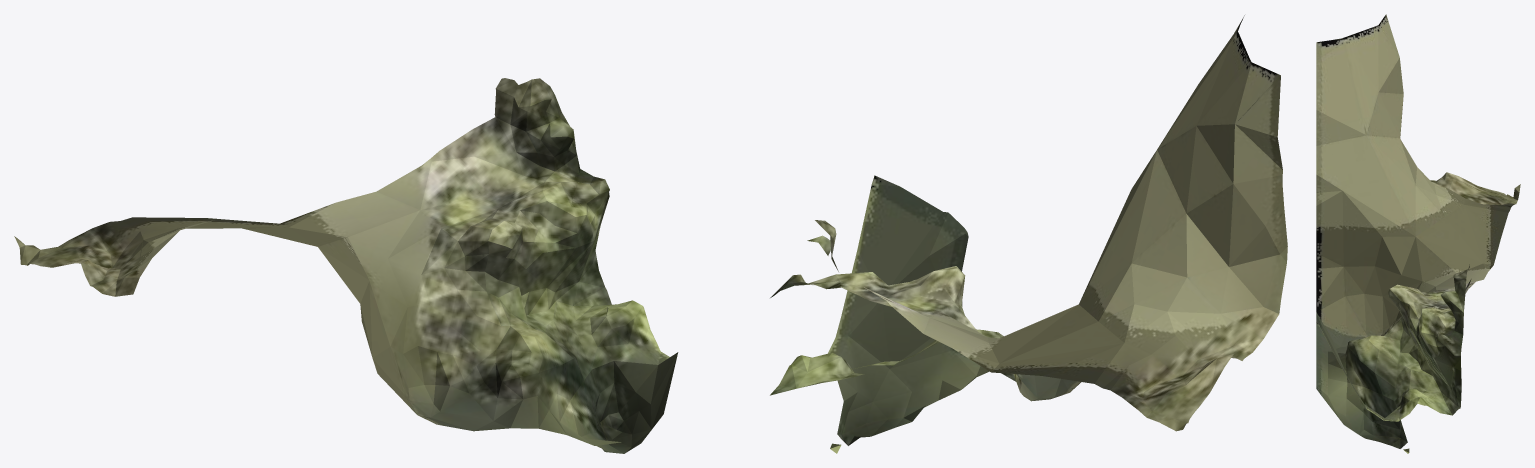
The picture shows the model from 3 angles, left to right: view 1: azimuth 30°, elevation 25°; view 2: azimuth 150°, elevation 25°; view 3: azimuth 270°, elevation 25°; orthographic projection. The views are drawn at different scales.
Size of the model in its own units: 11.8 by 11.5 by 7.
3 materials, 3 textured.
